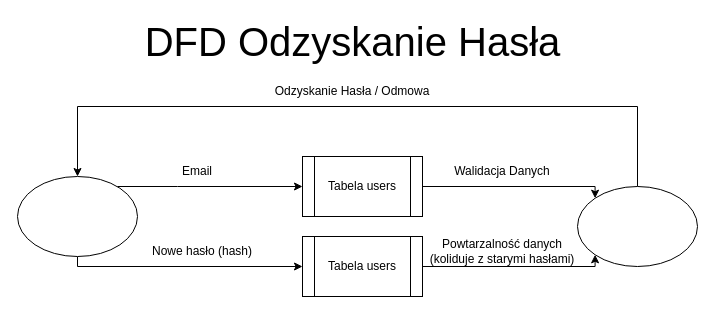
The diagram is 715 pixels wide and 314 high, and some of its shapes have lost their labels. Each missing label, with the centre of its shape:
"Server" goes at point (637, 226).
"User" goes at point (77, 216).
